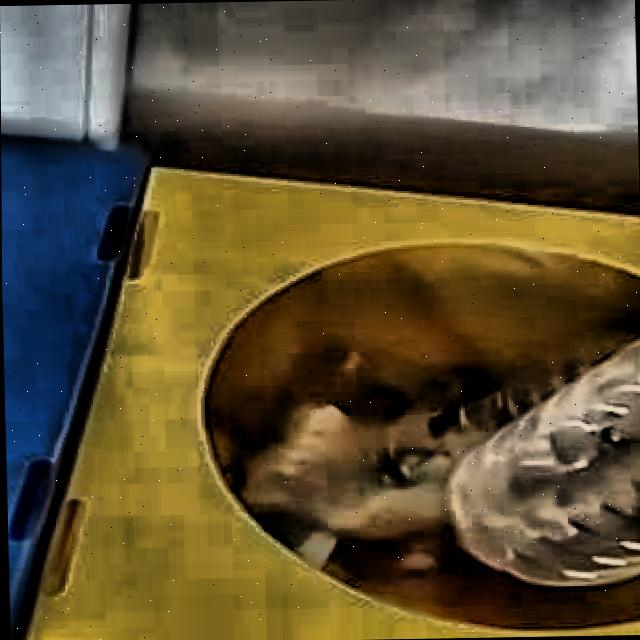plastic: (446, 342, 640, 587)
